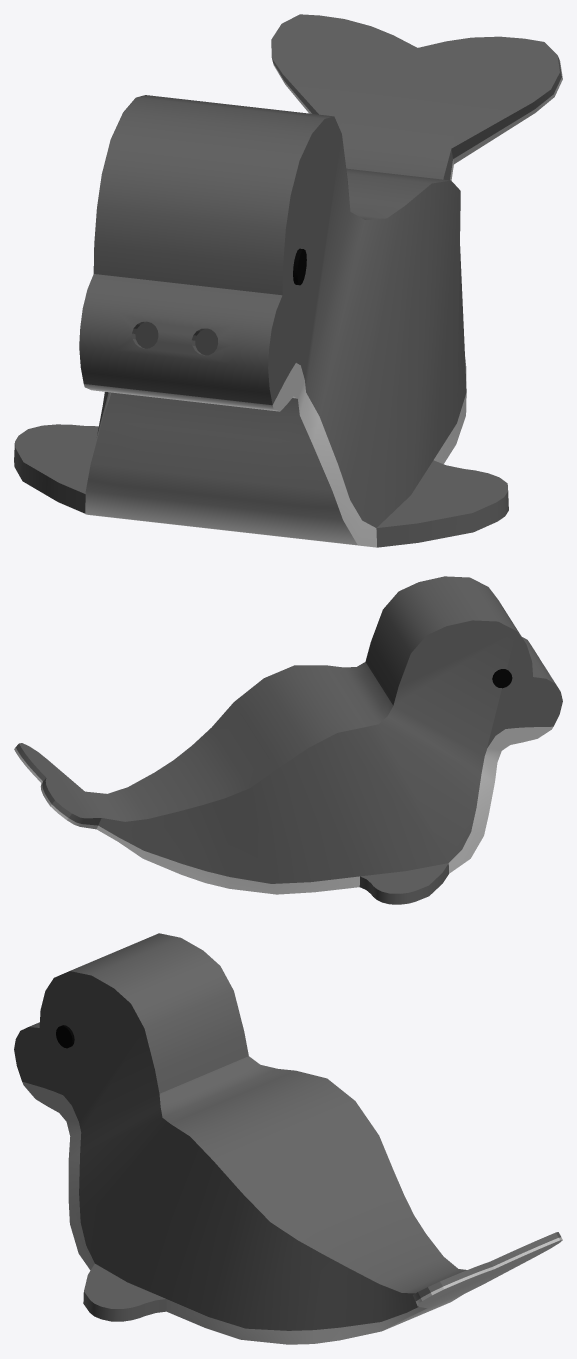
The model's file is seal.fbx.
3 renders of one model, top to bottom at view 1: azimuth 30°, elevation 25°; view 2: azimuth 150°, elevation 25°; view 3: azimuth 270°, elevation 25°, orthographic. The views are drawn at different scales.
Visible parts, largest first — view 1: Plane.169; view 2: Plane.169; view 3: Plane.169.
Part boxes in pixels (x1=…): Plane.169: x1=14, y1=14, x2=562, y2=547; Plane.169: x1=14, y1=576, x2=562, y2=904; Plane.169: x1=14, y1=933, x2=562, y2=1344.
Size of the model in its own units: 228 by 128 by 228.
Materials: 1 (1 with a texture image).
